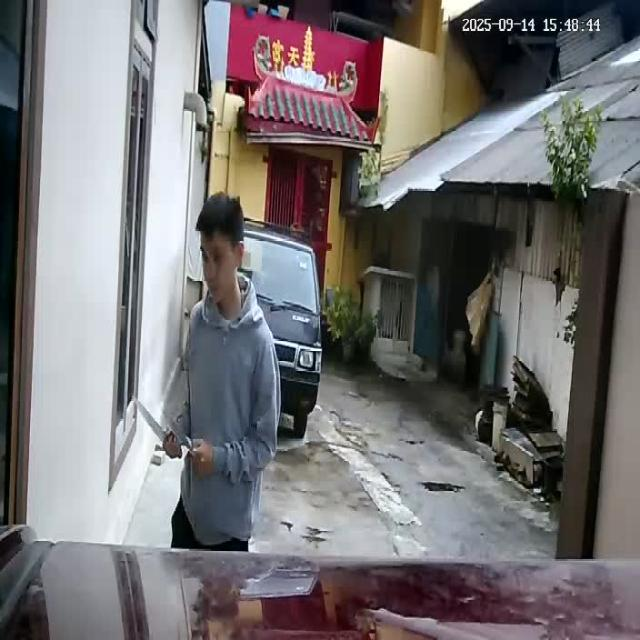senjata_tajam: (130, 392, 169, 444)
